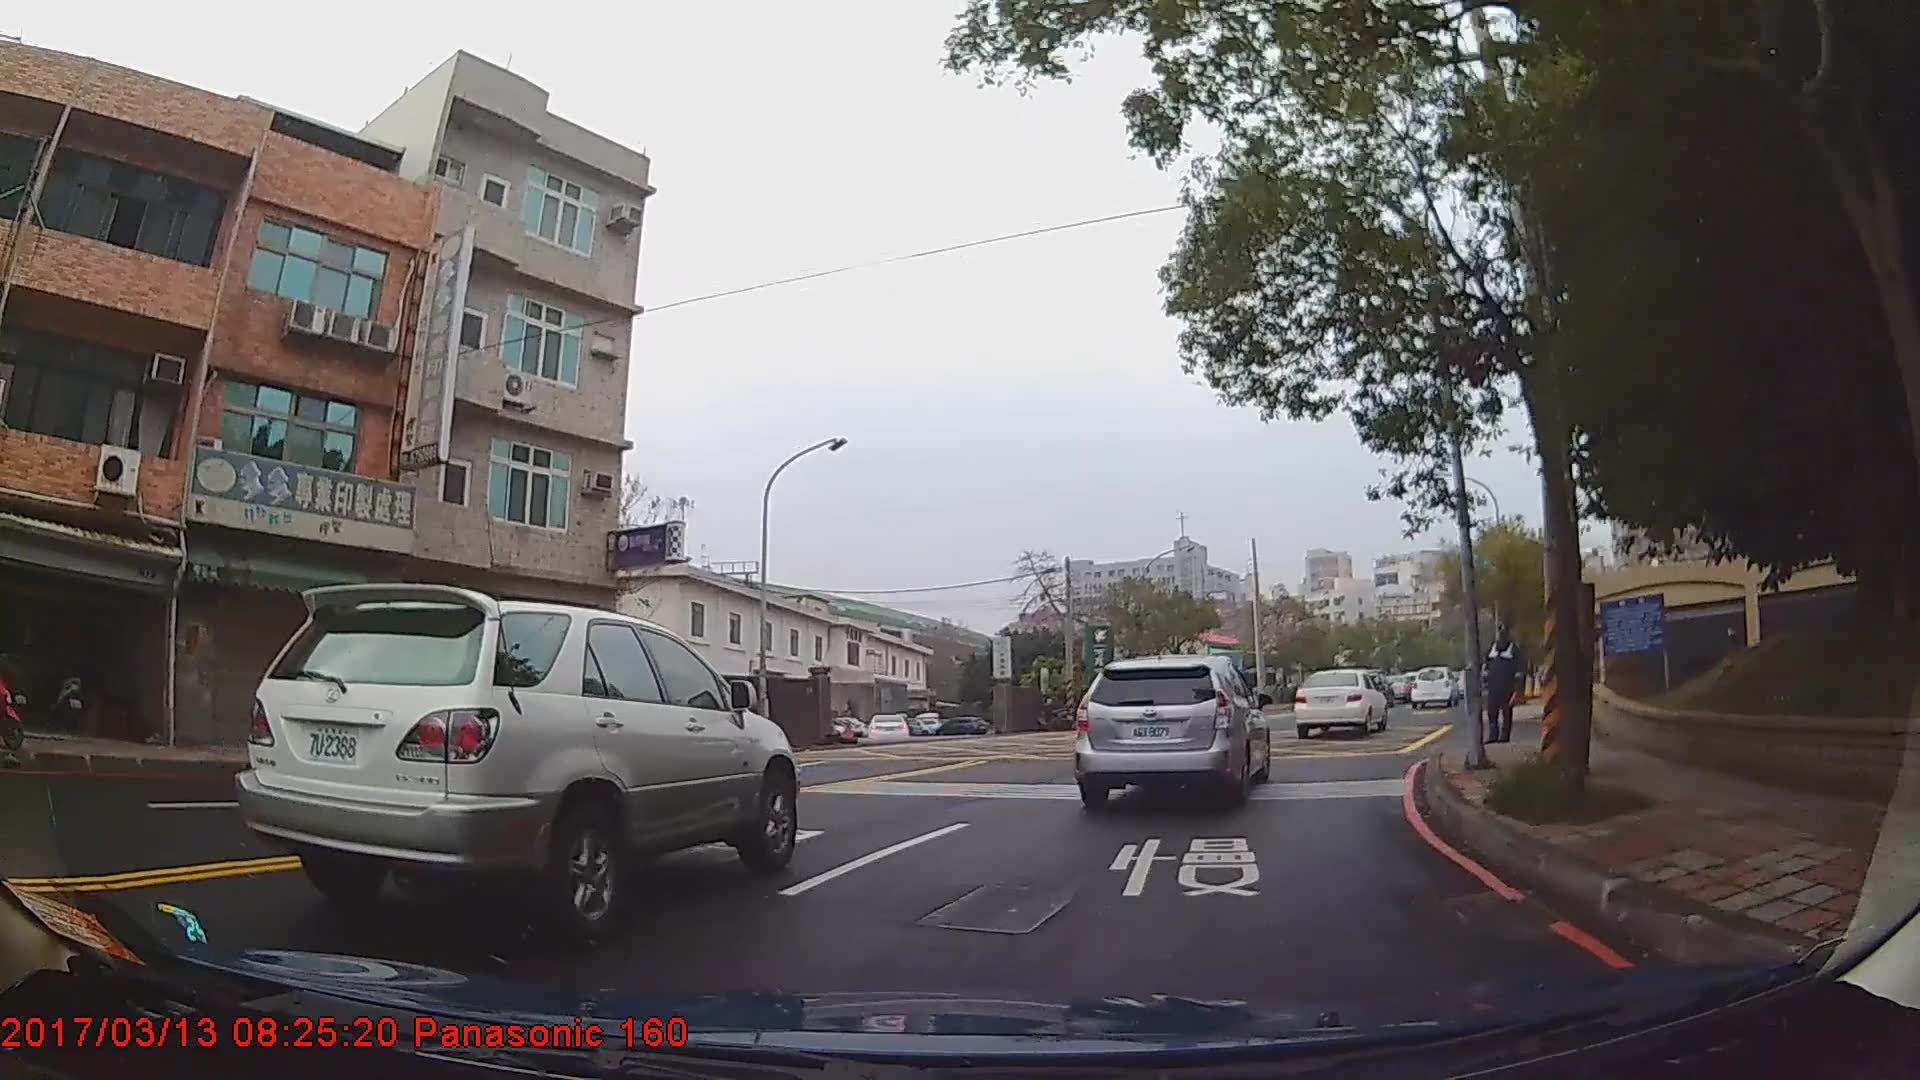pedestrian: (1482, 623, 1527, 745)
vehicle: (233, 584, 800, 941), (1069, 655, 1269, 807), (1291, 666, 1388, 738), (1407, 665, 1458, 710), (865, 712, 912, 742), (930, 714, 988, 735)
